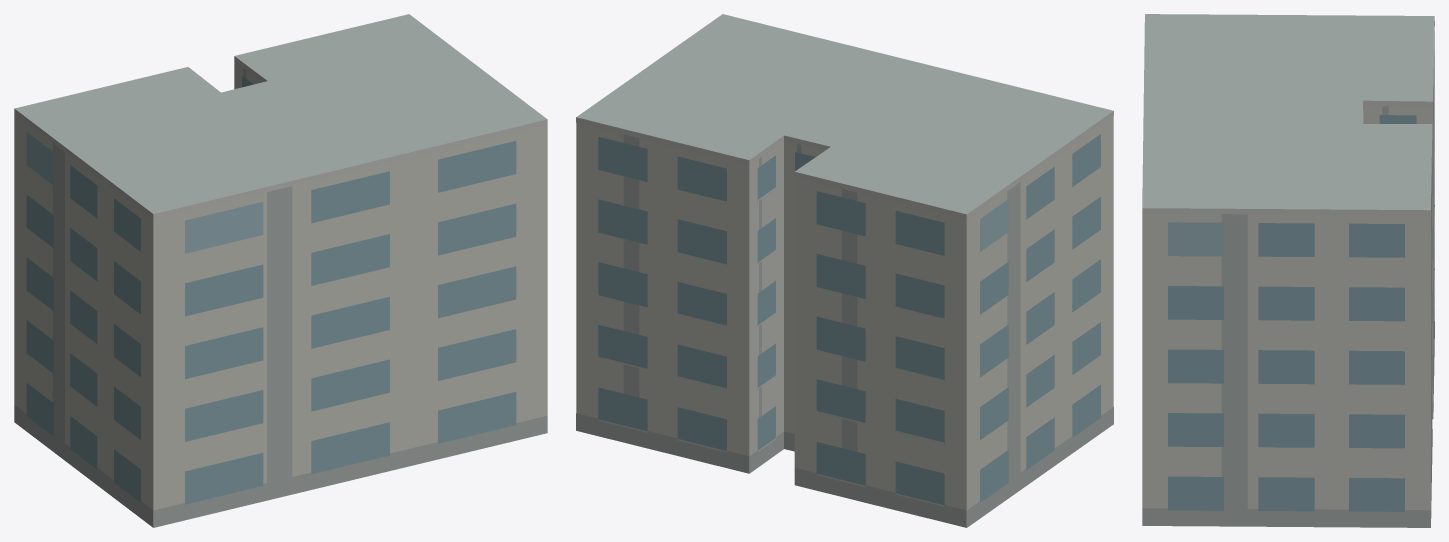
The model's file is survey-upis-32950721.glb.
The picture shows the model from 3 angles, left to right: view 1: azimuth 30°, elevation 25°; view 2: azimuth 150°, elevation 25°; view 3: azimuth 270°, elevation 25°; orthographic projection.
Visible parts, largest first — view 1: survey-upis-32950721.tmp; view 2: survey-upis-32950721.tmp; view 3: survey-upis-32950721.tmp.
Boxes of the visible parts, bbox=[...] form: survey-upis-32950721.tmp: bbox=[14, 14, 547, 527]; survey-upis-32950721.tmp: bbox=[576, 14, 1113, 527]; survey-upis-32950721.tmp: bbox=[1142, 14, 1434, 527].
Bounding box in the file's own units: 19.06 × 14.39 × 12.02.
